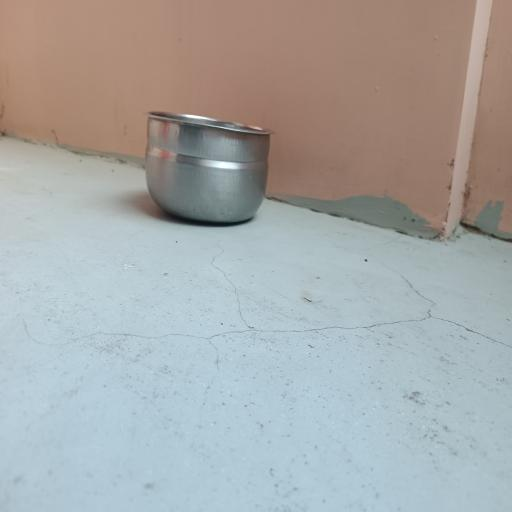vessel: (145, 112, 272, 223)
